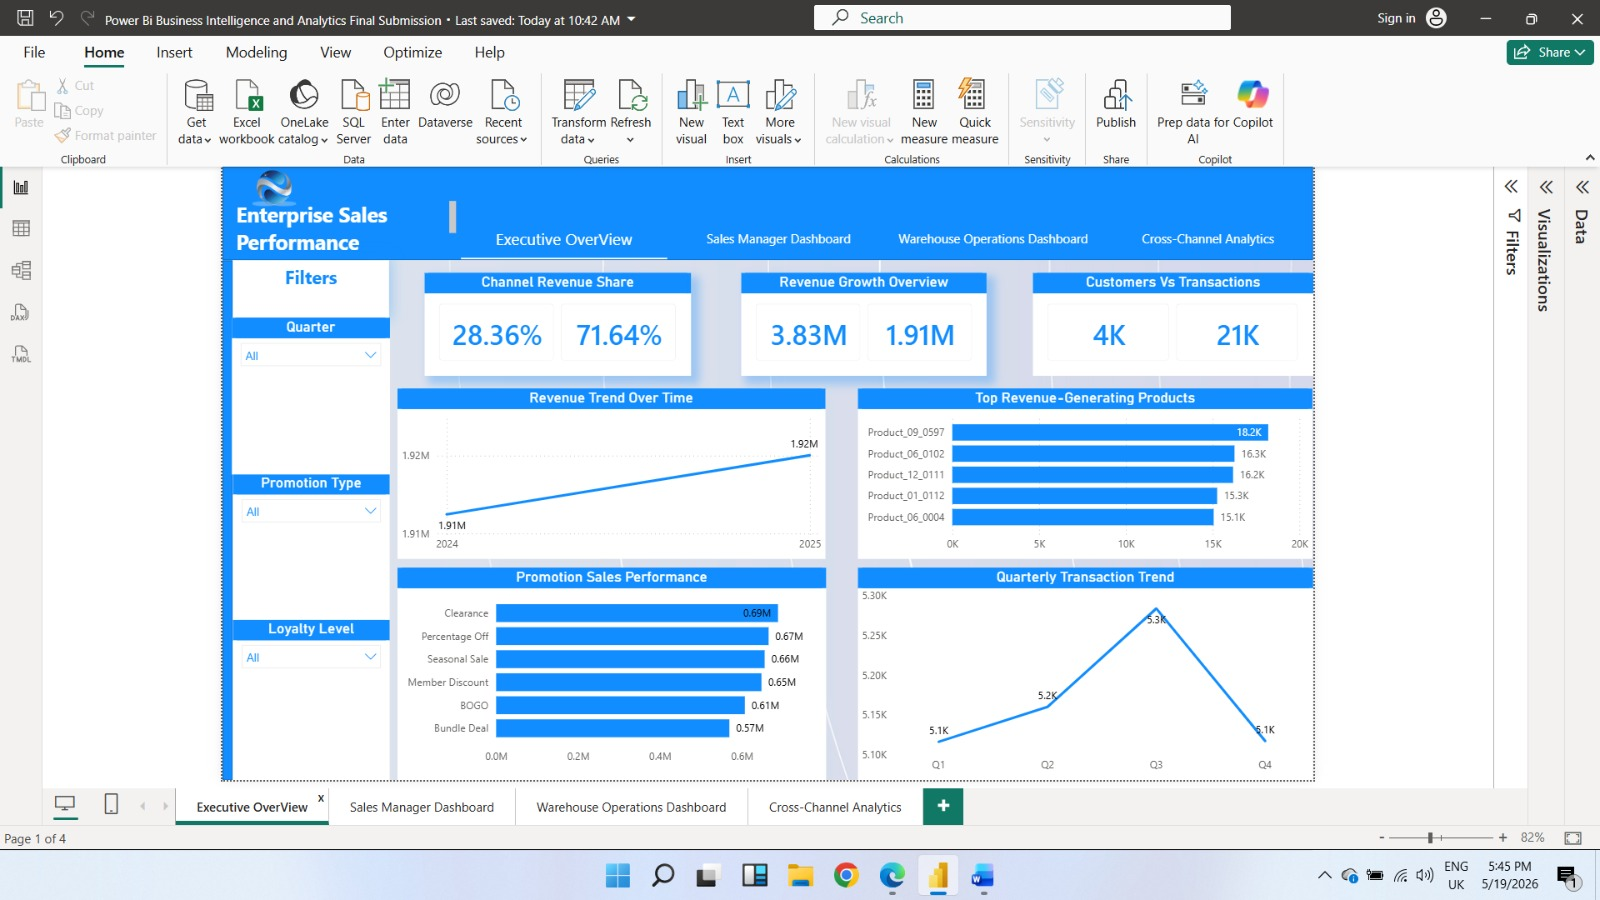

The page's visual inventory and layout, read from the dashboard file:
{"tool":"powerbi","page":{"name":"Executive OverView ","canvas":[1280,720],"ordinal":0},"visuals":[{"type":"shape","box":[0,0,1280,109.8],"z":0},{"type":"shape","box":[0,109.8,12.1,610.5],"z":1000},{"type":"shape","box":[12.1,109.8,183.4,610.5],"z":2000},{"type":"textbox","box":[11.4,35.6,268,69.8],"z":3000},{"type":"image","box":[0,0,121.9,47.1],"z":4000},{"type":"cardVisual","title":"Channel Revenue Share","fields":{"Data":["Measures .Online Revenue %","Measures .POS Revenue %"]},"box":[237.4,124.9,312.9,120.8],"z":5000},{"type":"cardVisual","title":"Revenue Growth Overview","fields":{"Data":["Measures .Total Revenue","Measures .Previous Year Revenue"]},"box":[609.3,124.9,288.2,120.8],"z":6000},{"type":"lineChart","title":"Revenue Trend Over Time","fields":{"Category":["gold dim_date.Date Hierarchy.year","gold dim_date.Date Hierarchy.month","gold dim_date.Quarter Label"],"Y":["Measures .Total Revenue"]},"box":[205.8,260.7,502.2,200.3],"z":7000},{"type":"clusteredBarChart","title":"Top Revenue-Generating Products","fields":{"Category":["gold dim_product.product_name"],"Y":["Measures .Total Revenue"]},"box":[746.5,260.7,533.8,200.3],"z":8000},{"type":"clusteredBarChart","title":"Promotion Sales Performance","fields":{"Category":["gold dim_promotion.promo_type"],"Y":["Measures .Total Revenue"]},"box":[205.3,470.4,503.2,249.4],"z":9000},{"type":"lineChart","title":"Quarterly Transaction Trend","fields":{"Y":["Measures .Total Transactions"],"Category":["gold dim_date.Quarter Label"]},"box":[745.9,470.8,534.4,249.5],"z":10000},{"type":"pageNavigator","box":[279.9,60.4,1000.3,49.4],"z":11000},{"type":"textbox","box":[12.1,109.8,183.4,67.6],"z":12000},{"type":"slicer","title":"Loyalty Level","fields":{"Values":["gold dim_customer.loyalty_level"]},"box":[12.3,532.4,183.9,188],"z":13000},{"type":"slicer","title":"Promotion Type","fields":{"Values":["gold dim_promotion.promo_type"]},"box":[12.3,360.9,183.9,171.5],"z":14000},{"type":"slicer","title":"Quarter","fields":{"Values":["gold dim_date.Date Hierarchy.quarter"]},"box":[11,177,185.2,183.9],"z":15000},{"type":"cardVisual","title":"Customers Vs Transactions","fields":{"Data":["Measures .Distinct Customers","Measures .Total Transactions"]},"box":[950.9,124.9,329.3,120.8],"z":16000}]}

Visuals, with their boxes on the page's 1280x720 design canvas (x1, y1, x2, y2). These are canvas units, not pixel positions in the 1600x900 screenshot, which may show the page scaled, cropped or inside an application window:
shape: Rect(0, 0, 1280, 110)
shape: Rect(0, 110, 12, 720)
shape: Rect(12, 110, 196, 720)
textbox: Rect(11, 36, 279, 105)
image: Rect(0, 0, 122, 47)
"Channel Revenue Share" cardVisual: Rect(237, 125, 550, 246)
"Revenue Growth Overview" cardVisual: Rect(609, 125, 898, 246)
"Revenue Trend Over Time" lineChart: Rect(206, 261, 708, 461)
"Top Revenue-Generating Products" clusteredBarChart: Rect(746, 261, 1280, 461)
"Promotion Sales Performance" clusteredBarChart: Rect(205, 470, 708, 720)
"Quarterly Transaction Trend" lineChart: Rect(746, 471, 1280, 720)
pageNavigator: Rect(280, 60, 1280, 110)
textbox: Rect(12, 110, 196, 177)
"Loyalty Level" slicer: Rect(12, 532, 196, 720)
"Promotion Type" slicer: Rect(12, 361, 196, 532)
"Quarter" slicer: Rect(11, 177, 196, 361)
"Customers Vs Transactions" cardVisual: Rect(951, 125, 1280, 246)
